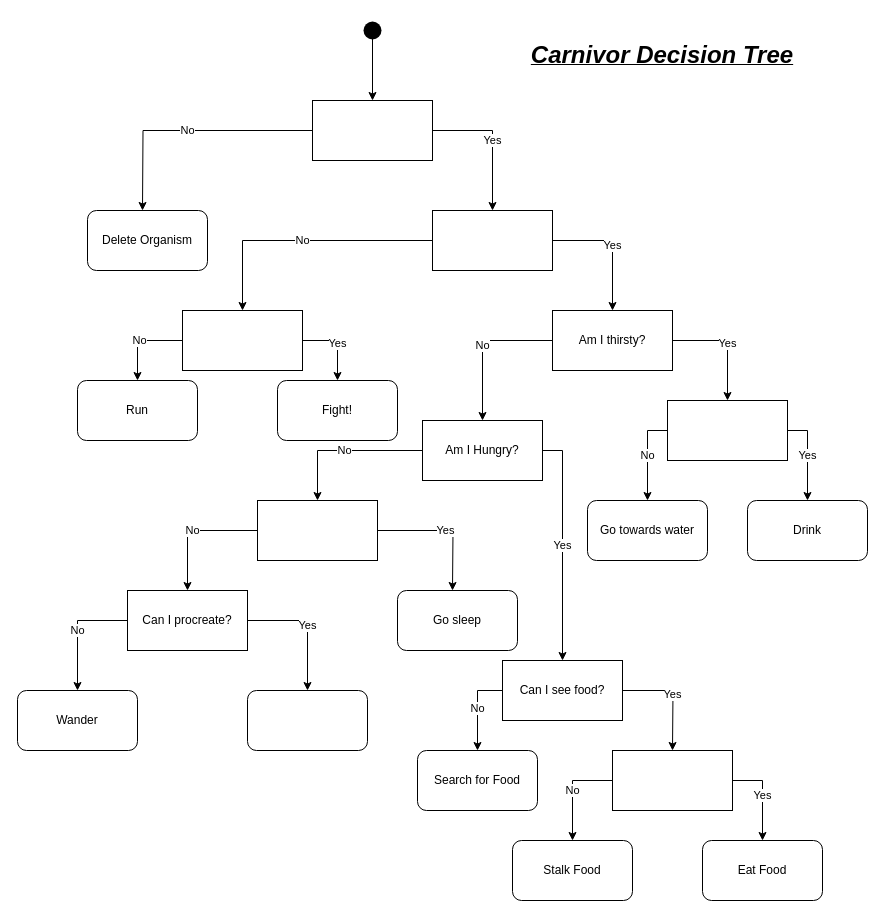
Some shapes in this 885 by 918 pixel diagram are drawn without their labels. Here are the shapes that lost their labels. From the top down, the centre of each, then its label:
At point 372,130: "Am I alive?".
At point 492,240: "Am I Safe?".
At point 242,340: "Can I fight?".
At point 727,430: "Am I near water?".
At point 317,530: "Am I tired?".
At point 307,720: "Procreate".
At point 672,780: "Am I close enough?".
